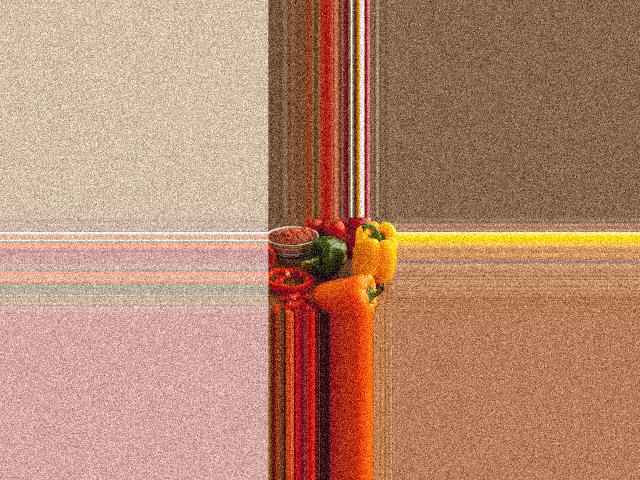bell_pepper: (350, 222, 396, 272)
